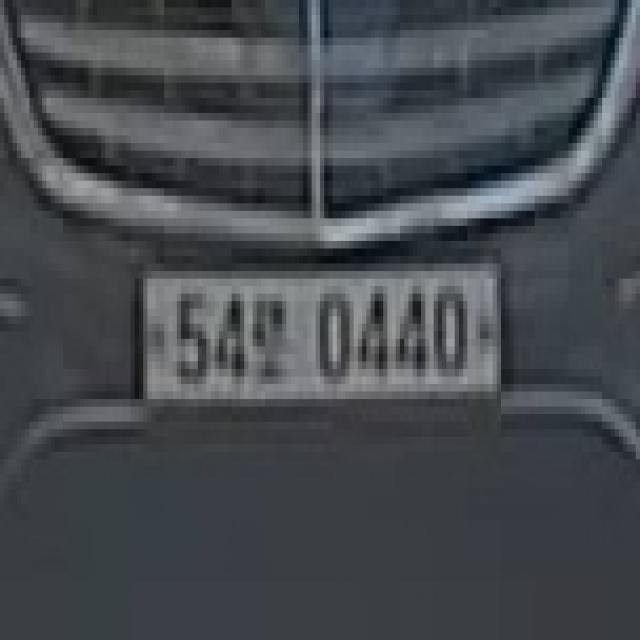0: (429, 271, 480, 399), (307, 271, 354, 399)
4: (206, 271, 253, 407), (396, 256, 434, 407), (354, 278, 392, 406)
5: (168, 278, 210, 406)
license_plate: (126, 241, 514, 422)
lo: (248, 271, 290, 384)
